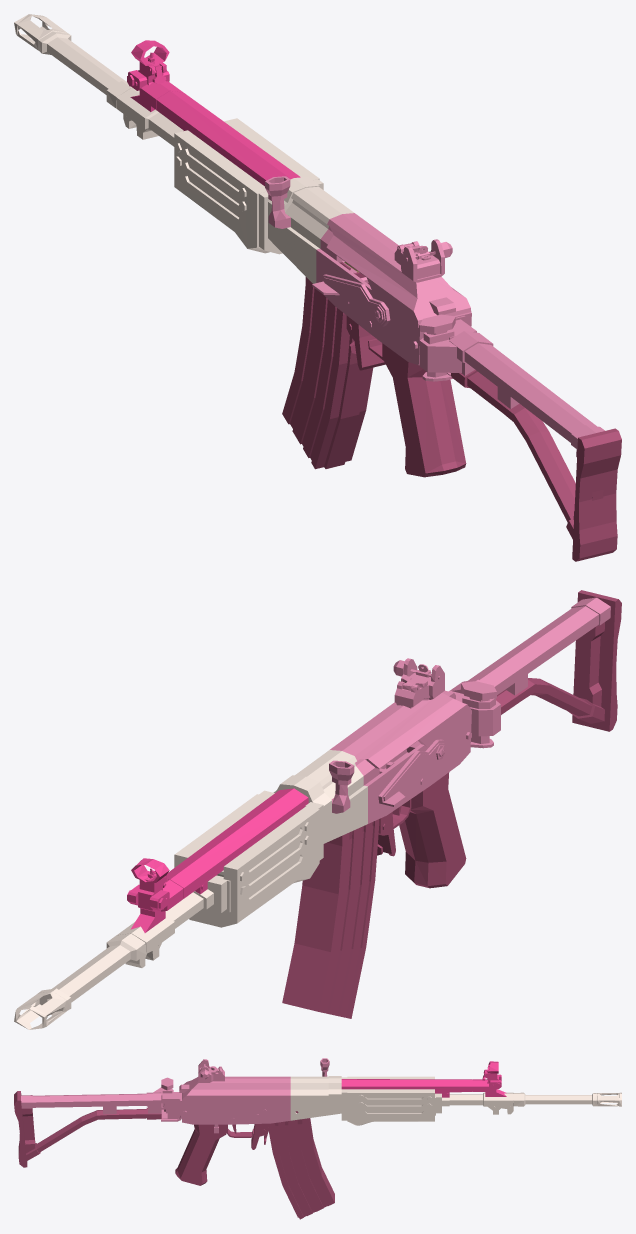
File: Rifle_Galil.obj
3 views of the same model, one above another, from view 1: azimuth 30°, elevation 25°; view 2: azimuth 150°, elevation 25°; view 3: azimuth 270°, elevation 25° (orthographic). The views are drawn at different scales.
Parts seen in each view (by area): view 1: Body, Panel, Grip, Mag, Accent; view 2: Body, Panel, Mag, Grip, Accent; view 3: Body, Panel, Mag, Grip, Accent.
Boxes of the visible parts, left/top/right/bottom form: Body: left=265, top=176, right=604, bottom=449; Panel: left=14, top=14, right=353, bottom=283; Grip: left=382, top=343, right=621, bottom=561; Mag: left=282, top=262, right=385, bottom=469; Accent: left=127, top=40, right=300, bottom=186; Body: left=329, top=597, right=610, bottom=823; Panel: left=14, top=750, right=367, bottom=1029; Mag: left=282, top=799, right=411, bottom=1018; Grip: left=399, top=590, right=621, bottom=888; Accent: left=127, top=788, right=308, bottom=932; Body: left=21, top=1058, right=329, bottom=1133; Panel: left=290, top=1076, right=621, bottom=1125; Mag: left=226, top=1111, right=334, bottom=1219; Grip: left=14, top=1091, right=226, bottom=1185; Accent: left=341, top=1061, right=506, bottom=1097.
Size of the model in its own units: 0.2588 by 0.9404 by 3.4.
